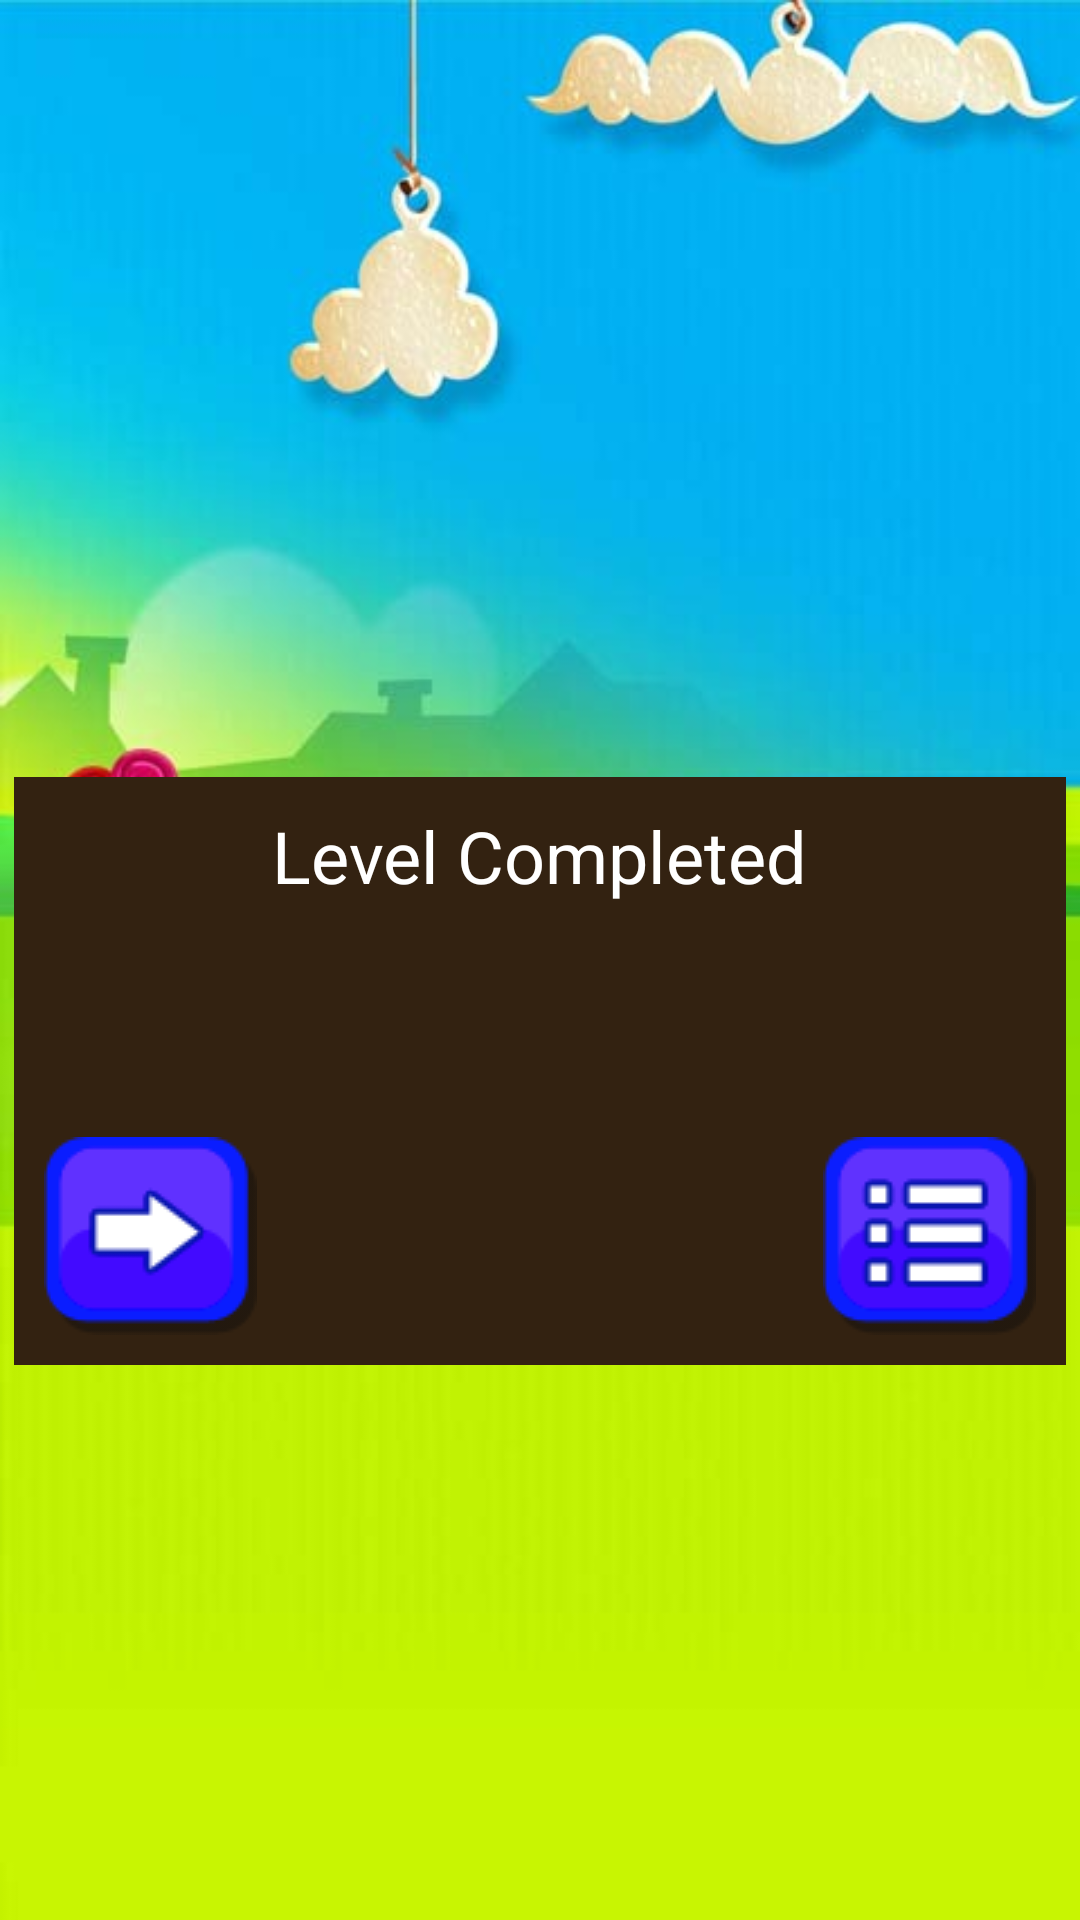

Icons on this 1080x1920 Android screen, each with the point to tap as (x,y):
menu: (925,1230)
next: (146,1230)
